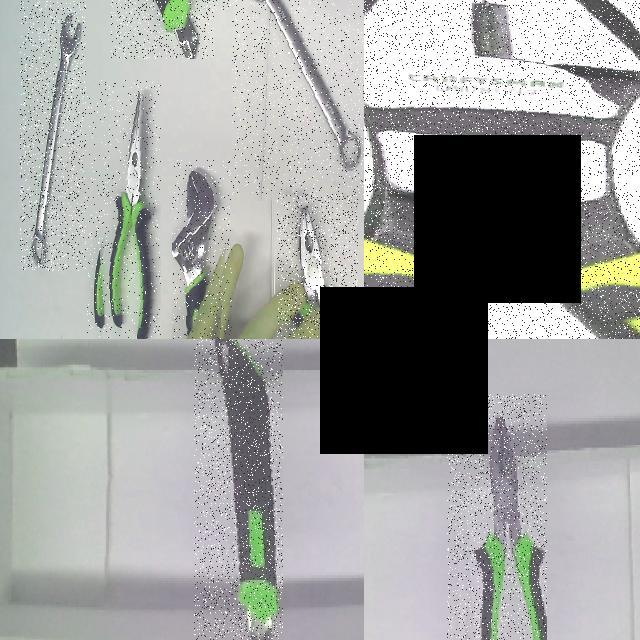estilete: (215, 340, 279, 636)
